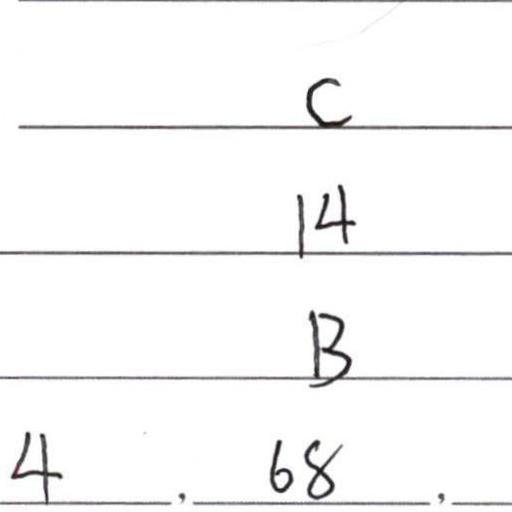ans: (268, 431, 346, 501), (292, 181, 356, 255), (7, 427, 67, 504), (304, 305, 353, 390), (303, 76, 354, 129)
